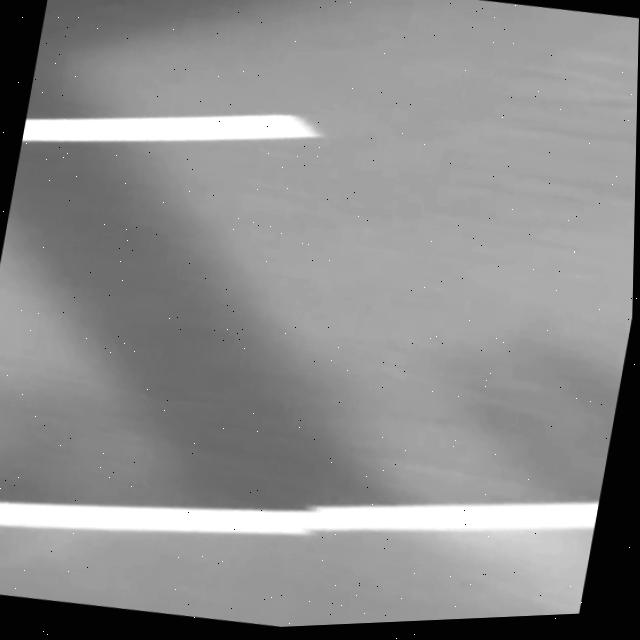center: (21, 114, 318, 141)
right: (0, 501, 599, 534)
